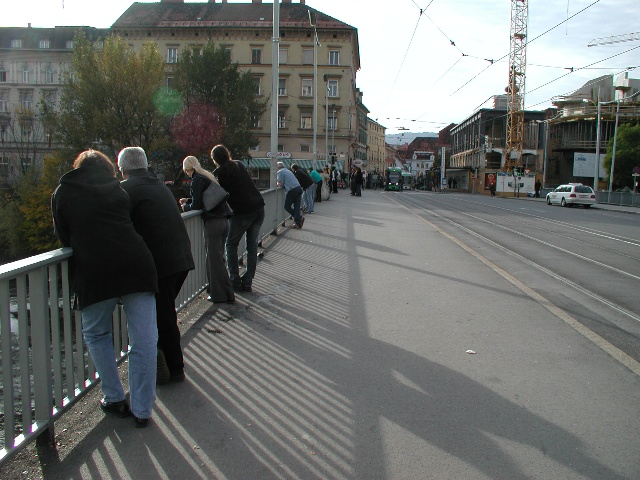person: (52, 153, 156, 422), (177, 150, 233, 305), (205, 141, 263, 289)
